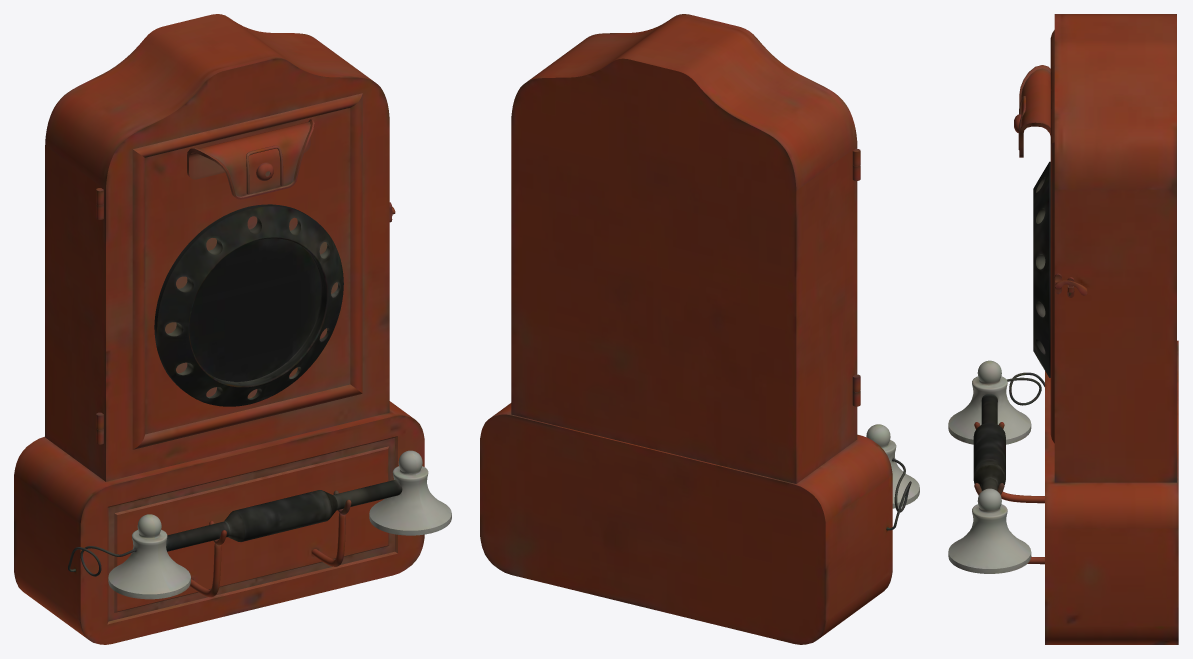
Rendered from vintage_telephone_wall_clock.glb.
3 views of the same model, side by side, from view 1: azimuth 30°, elevation 25°; view 2: azimuth 150°, elevation 25°; view 3: azimuth 270°, elevation 25° (orthographic).
Visible parts, largest first — view 1: vintage_telephone_wall_clock; view 2: vintage_telephone_wall_clock; view 3: vintage_telephone_wall_clock.
Boxes of the visible parts, left/top/right/bottom form: vintage_telephone_wall_clock: left=14, top=14, right=451, bottom=644; vintage_telephone_wall_clock: left=480, top=14, right=919, bottom=644; vintage_telephone_wall_clock: left=948, top=14, right=1178, bottom=644.
Bounding box in the file's own units: 0.3428 × 0.5012 × 0.1926.
2 materials, 2 textured.
